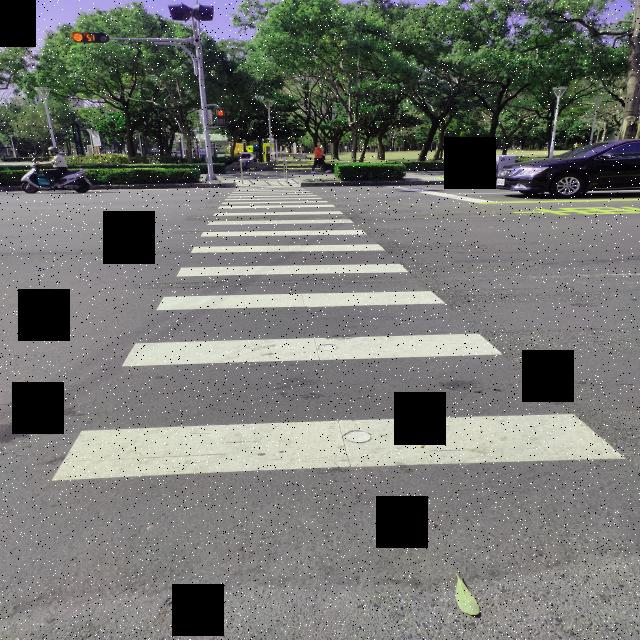zebra_crossing: (472, 362, 640, 550)
